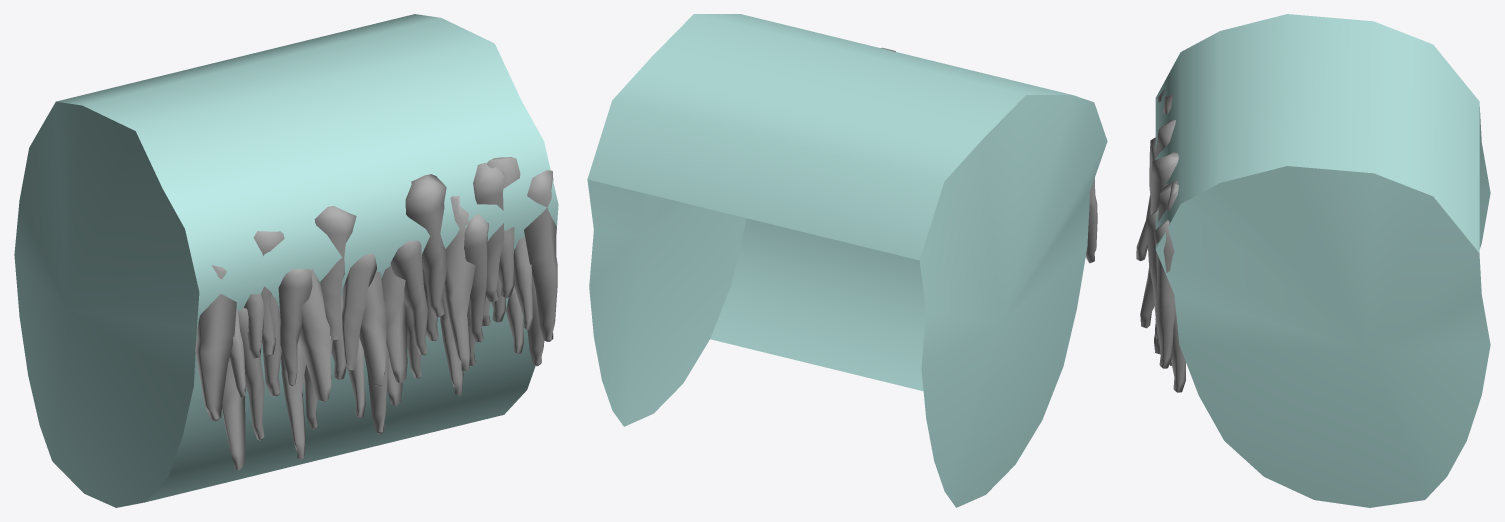
The model's file is waterfall.fbx.
3 views of the same model, side by side, from view 1: azimuth 30°, elevation 25°; view 2: azimuth 150°, elevation 25°; view 3: azimuth 270°, elevation 25° (orthographic). The views are drawn at different scales.
Visible parts, largest first — view 1: waterfall; view 2: waterfall; view 3: waterfall.
Boxes of the visible parts, bbox=[...] form: waterfall: bbox=[14, 14, 558, 507]; waterfall: bbox=[587, 14, 1107, 507]; waterfall: bbox=[1136, 14, 1490, 507].
Size of the model in its own units: 1.19 by 1.15 by 1.07.
